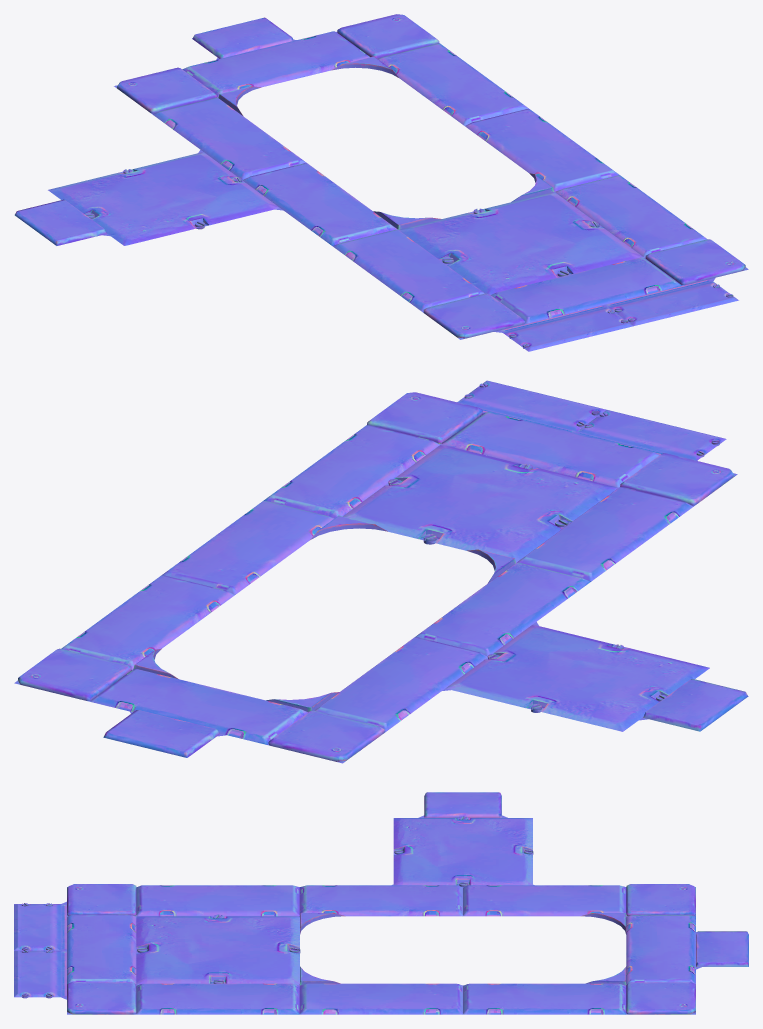
The model's file is Building_B_Room_D_Floor_A.fbx.
3 renders of one model, top to bottom at view 1: azimuth 30°, elevation 25°; view 2: azimuth 150°, elevation 25°; view 3: azimuth 270°, elevation 25°, orthographic. The views are drawn at different scales.
Visible parts, largest first — view 1: Geom_Building_B_Room_D_Floor_A_LOD00; view 2: Geom_Building_B_Room_D_Floor_A_LOD00; view 3: Geom_Building_B_Room_D_Floor_A_LOD00.
Boxes of the visible parts, box(x1,y1,x2,y2) form: Geom_Building_B_Room_D_Floor_A_LOD00: box(14, 14, 748, 351); Geom_Building_B_Room_D_Floor_A_LOD00: box(14, 380, 748, 763); Geom_Building_B_Room_D_Floor_A_LOD00: box(14, 792, 748, 1014).
Size of what is drawn, in the model's own units: 1270 by 16.36 by 1800.
